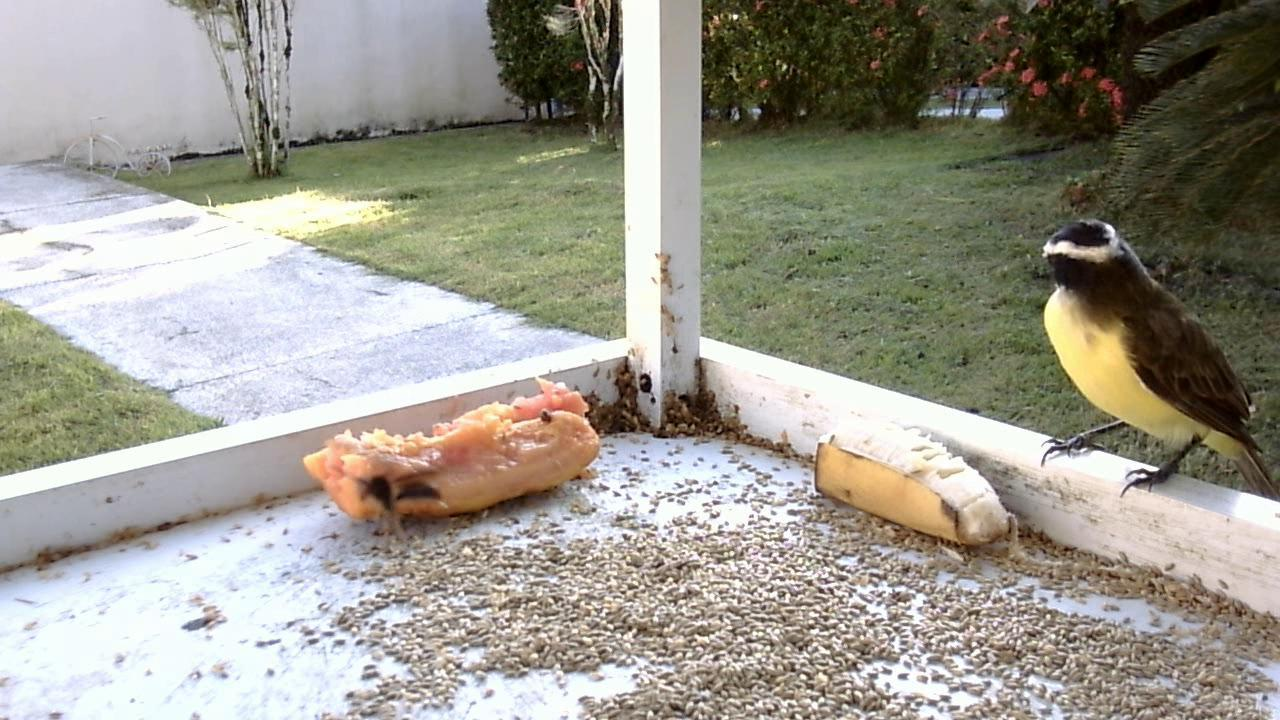bem_te_vi: (1026, 209, 1273, 516)
